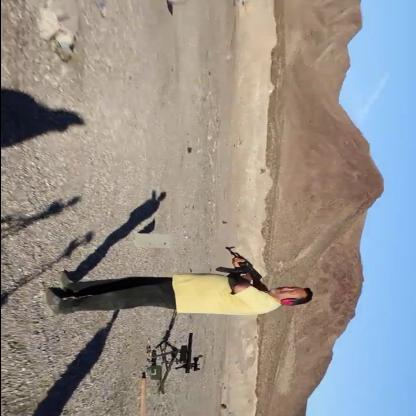long weapon: (151, 329, 207, 387), (219, 245, 273, 296)
